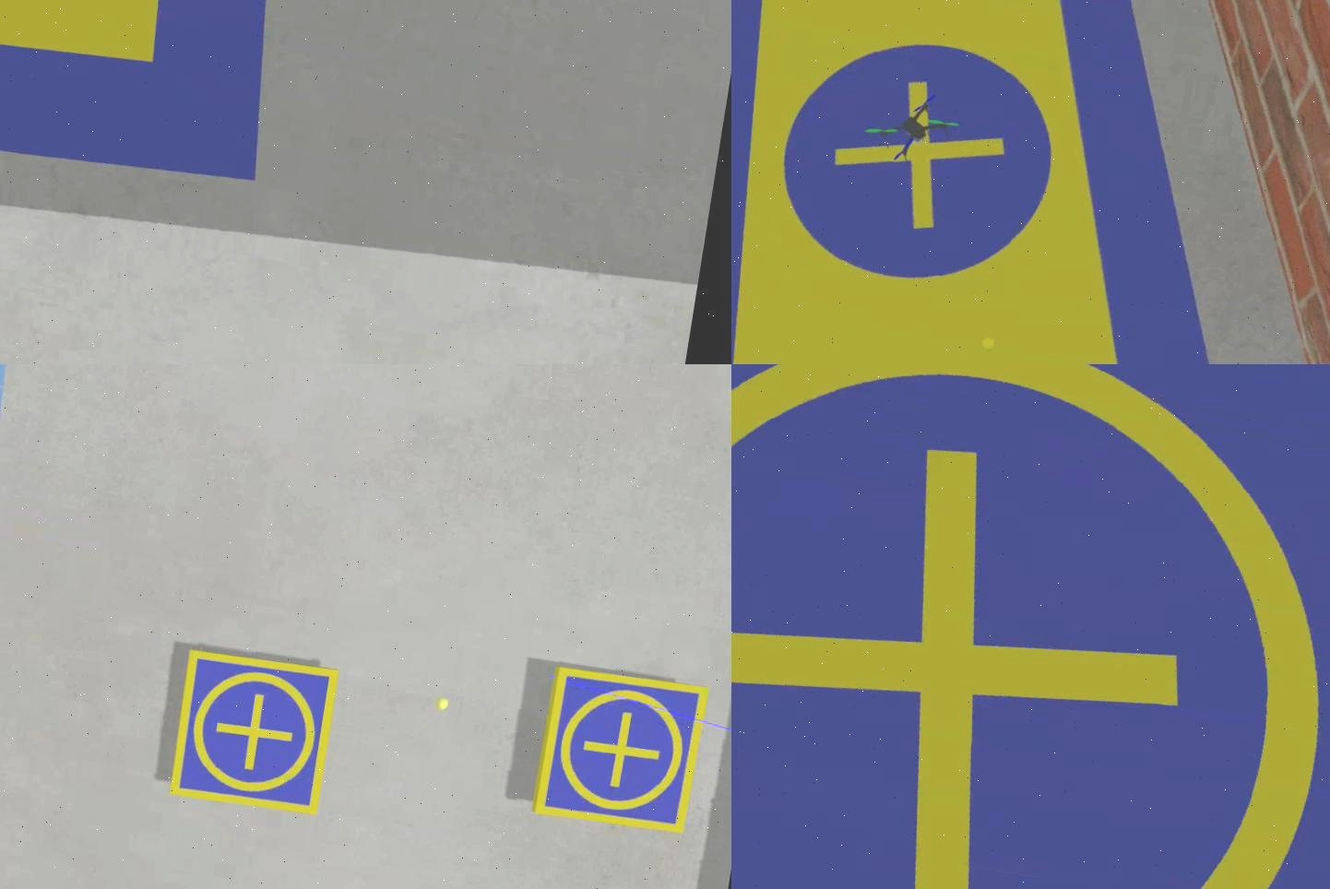large_base: (731, 1, 1311, 365), (1, 1, 346, 219)
small_base: (731, 365, 1330, 889), (530, 664, 707, 843), (168, 646, 340, 821)
